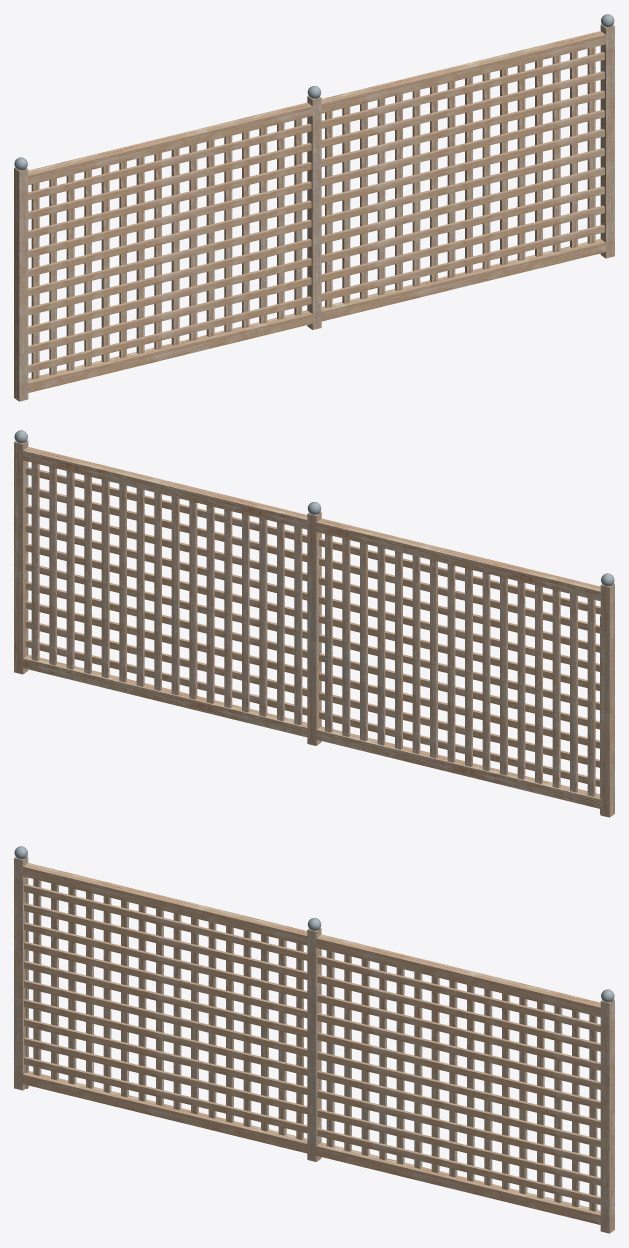
3 views of the same model, one above another, from view 1: azimuth 30°, elevation 25°; view 2: azimuth 150°, elevation 25°; view 3: azimuth 330°, elevation 25° (orthographic).
Visible parts, largest first — view 1: Horizontal_Plank (×20), Inner_Post (×32), group_0 (×3), Top (×2), Bottom (×2); view 2: Inner_Post (×32), Horizontal_Plank (×20), group_0 (×3), Top (×2), Bottom (×2); view 3: Horizontal_Plank (×20), Inner_Post (×32), group_0 (×3), Top (×2), Bottom (×2).
Boxes of the visible parts, x1,y1,x2,y2 form: Horizontal_Plank (×20): (28, 52, 604, 372); Inner_Post (×32): (31, 47, 595, 379); group_0 (×3): (14, 24, 614, 401); Top (×2): (28, 31, 605, 185); Bottom (×2): (28, 239, 605, 392); Inner_Post (×32): (31, 462, 595, 796); Horizontal_Plank (×20): (25, 466, 600, 786); group_0 (×3): (14, 440, 614, 817); Top (×2): (23, 447, 600, 600); Bottom (×2): (23, 654, 600, 808); Horizontal_Plank (×20): (24, 884, 600, 1204); Inner_Post (×32): (33, 879, 597, 1211); group_0 (×3): (14, 856, 614, 1233); Top (×2): (23, 863, 600, 1017); Bottom (×2): (23, 1071, 600, 1224).
Bounding box in the file's own units: 196 × 3.83 × 75.27.
